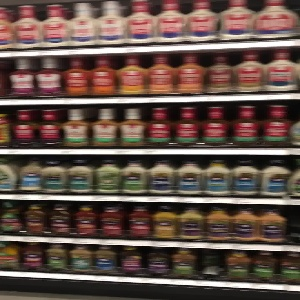void: (193, 250, 226, 282)
